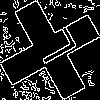L: (25, 25, 79, 72)
